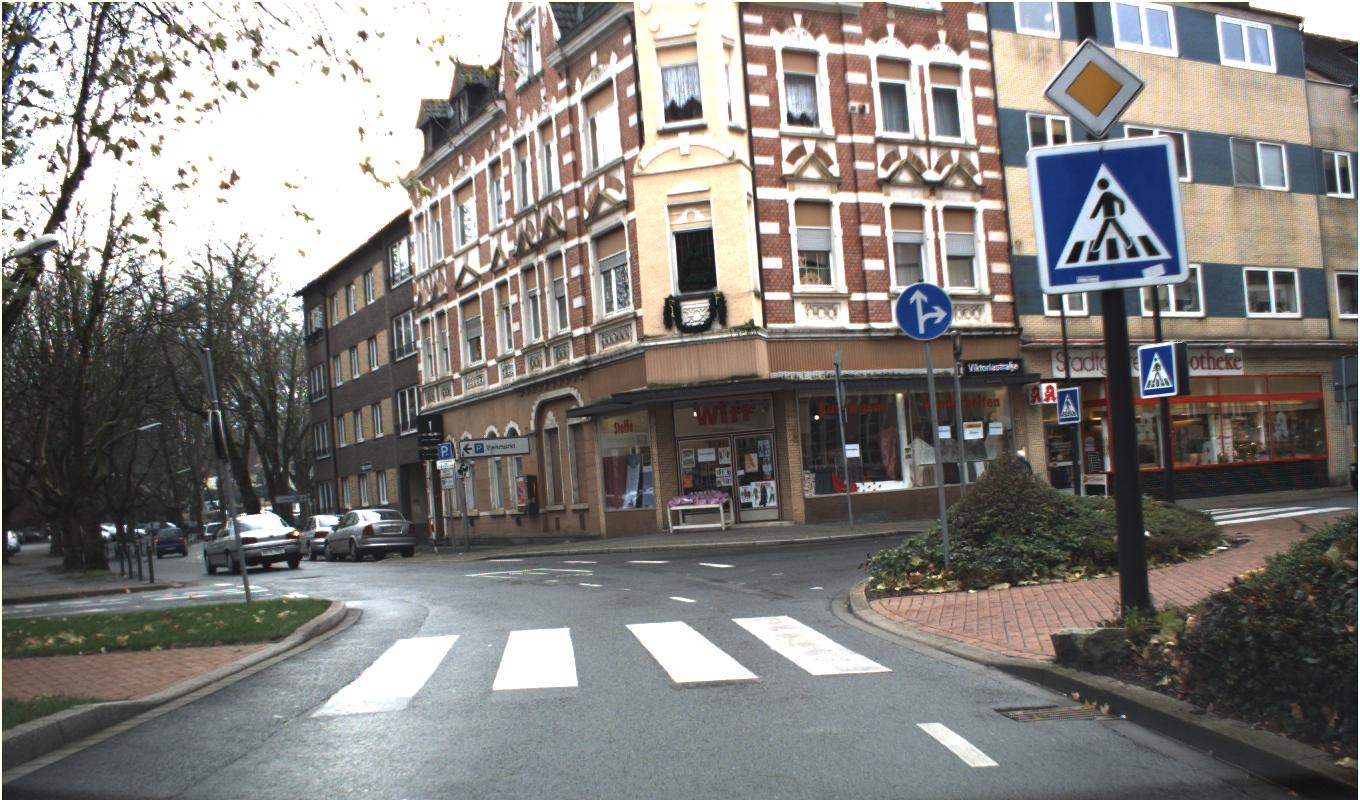mandatory: (894, 282, 953, 341)
sign: (1042, 37, 1146, 139)
